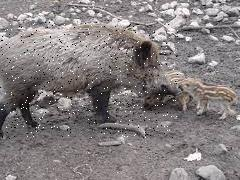Hog: (0, 22, 179, 139)
